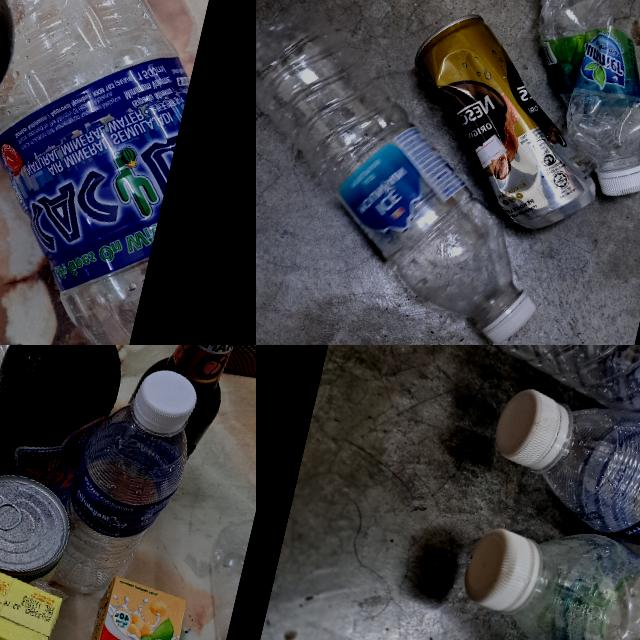caixinha: (69, 576, 193, 640), (0, 567, 61, 640)
garrafa de vidro: (0, 345, 161, 519), (120, 345, 256, 482)
garrafa plástica: (256, 0, 571, 333), (0, 0, 244, 345), (408, 345, 640, 485), (49, 398, 196, 608), (482, 0, 640, 178), (527, 393, 640, 586), (501, 522, 640, 640), (168, 506, 255, 640)
lata: (384, 2, 632, 244), (0, 468, 75, 630), (0, 483, 30, 533)
tampa plástica: (458, 523, 537, 616), (488, 383, 566, 472), (129, 366, 201, 434), (482, 288, 537, 345), (592, 156, 640, 209)
